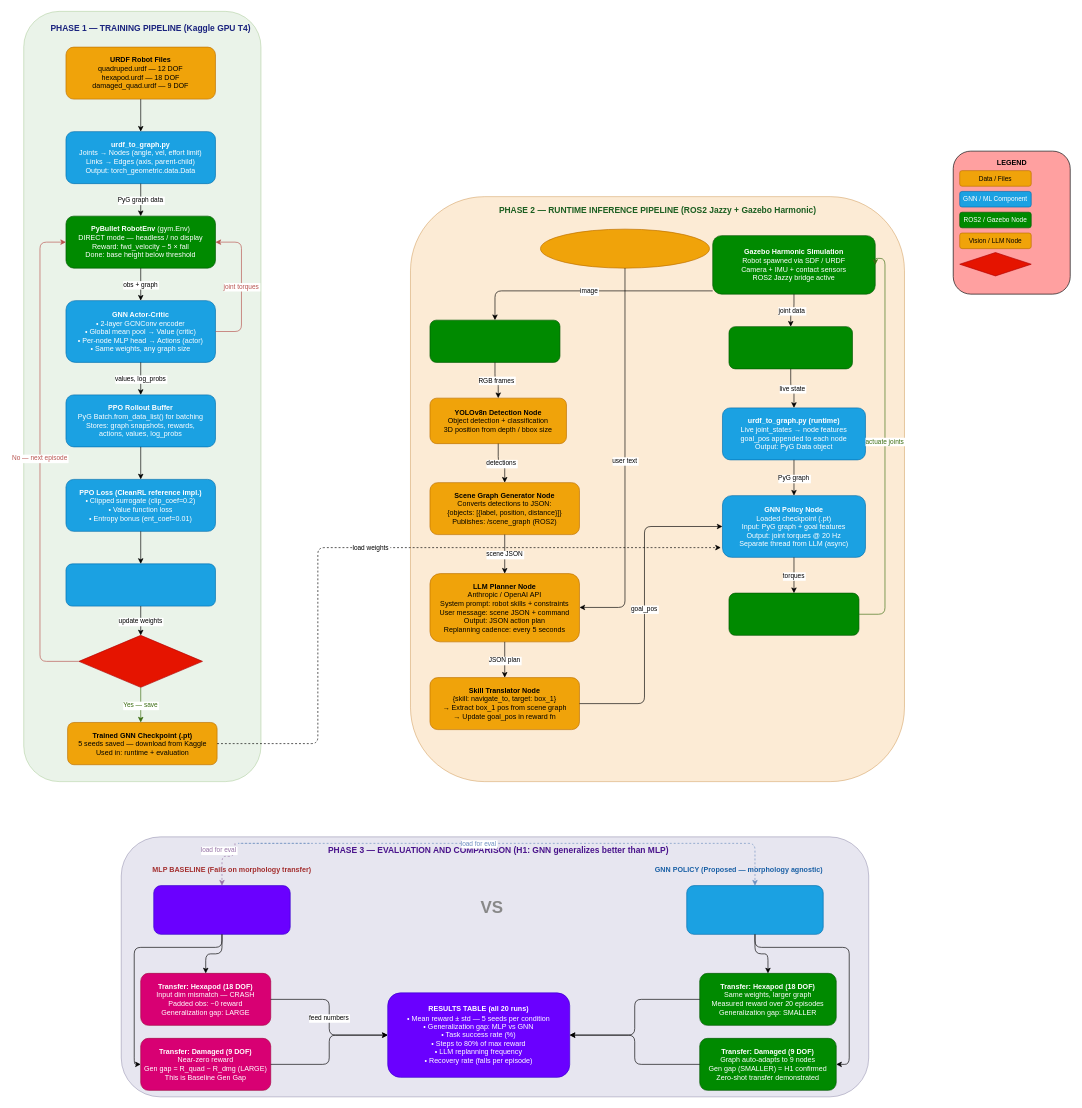
Image size: 1082x1108. Some labels were removed from this diagram. The box of each missing label's shape, as (x1, y1, x2, y2) in pixels:
/camera/image_raw ROS2 topic — RGB stream from Gazebo camera sensor: (429, 319, 560, 362)
/joint_commands Topic Torques published @ 20 Hz Consumed by Gazebo actuators: (728, 592, 859, 635)
/joint_states Topic position + velocity per joint Published by Gazebo bridge: (728, 326, 852, 369)
Adam Optimizer lr=3e-4, grad clip=0.5 4 minibatches per rollout: (65, 563, 215, 606)
Converged? 500k steps / 5 seeds: (78, 635, 202, 687)
Decision / Critical: (959, 252, 1031, 276)
GNN Policy — Trained Quadruped, 12 DOF Same conditions as MLP: (686, 885, 823, 934)
MLP Policy — Trained Quadruped, 12 DOF Reward: ≥150 (convergence threshold): (153, 885, 290, 934)
Natural Language Command "Navigate to the red box": (540, 228, 709, 268)
